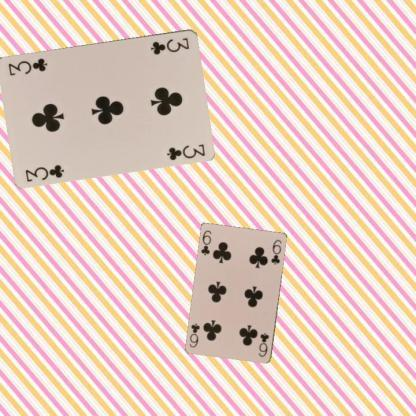3c: (22, 161, 66, 183), (148, 34, 191, 56)
6c: (198, 228, 212, 257), (256, 330, 270, 358)
